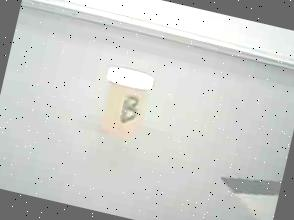Bottle B: (86, 56, 164, 154)
